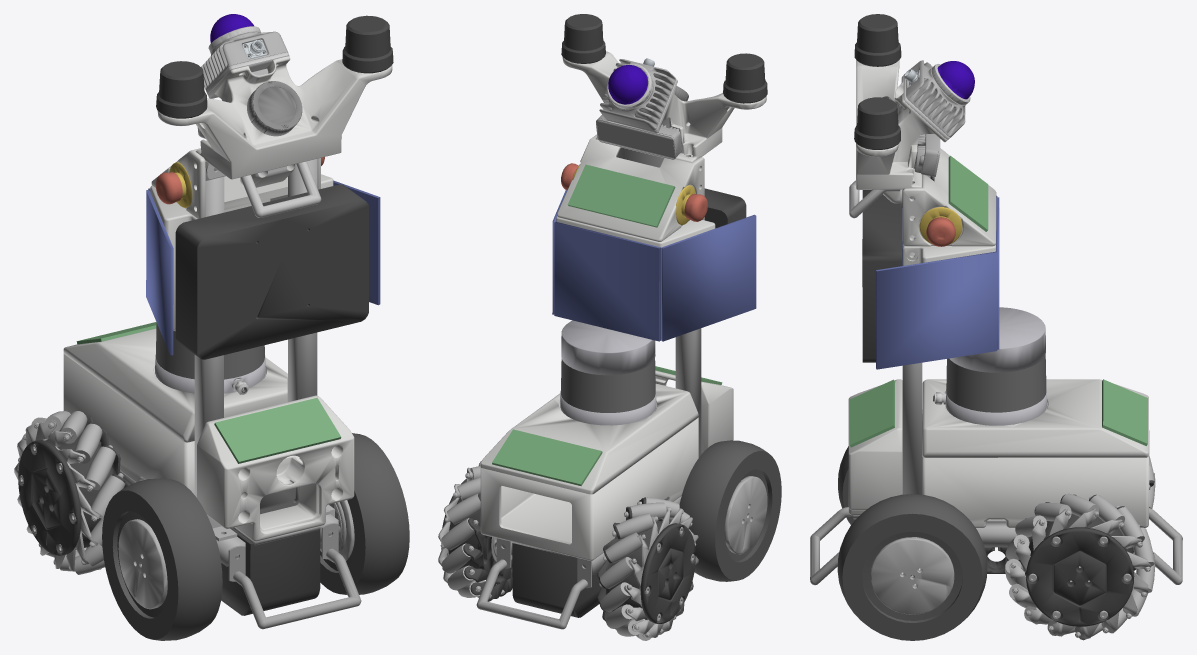
The model's file is cub4.glb.
3 views of the same model, side by side, from view 1: azimuth 30°, elevation 25°; view 2: azimuth 150°, elevation 25°; view 3: azimuth 270°, elevation 25° (orthographic). The views are drawn at different scales.
Visible parts, largest first — view 1: Cub4; view 2: Cub4; view 3: Cub4.
Part boxes in pixels (x1,y1,x2,y2): Cub4: (14,14,409,640); Cub4: (438,14,781,640); Cub4: (810,14,1182,640).
Bounding box in the file's own units: 0.2542 × 0.5945 × 0.3782.
